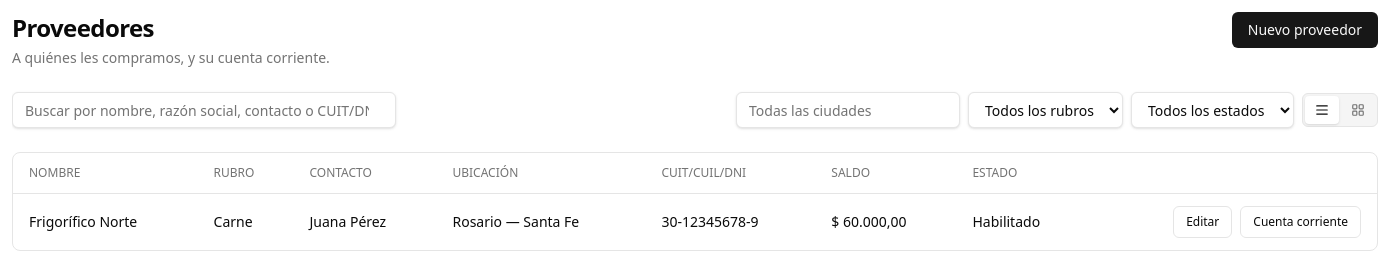
Scenario: SuppliersScreen › searches on the server, debounced
The image size is (1390, 268).
Expected: the text "Frigorífico Norte" is shown, [13,194,198,250]
Type "limp" into the search field named "Buscar proveedores" at (204, 110), box [12,92,396,128]
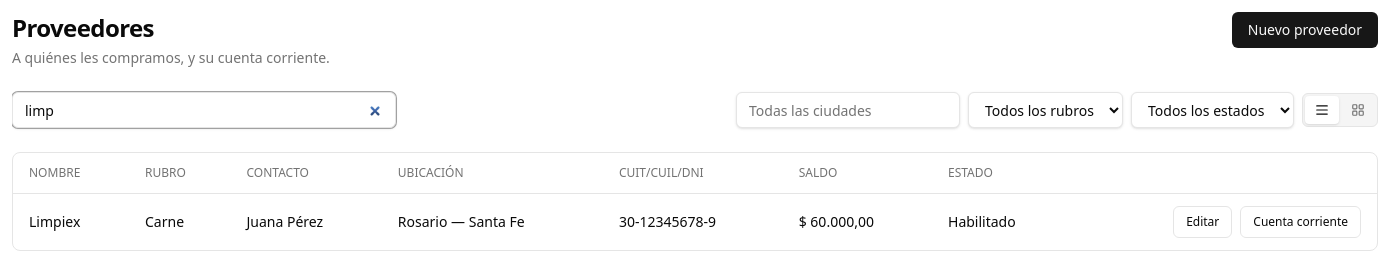
Result: the text "Limpiex" is shown at [13,194,129,250]
